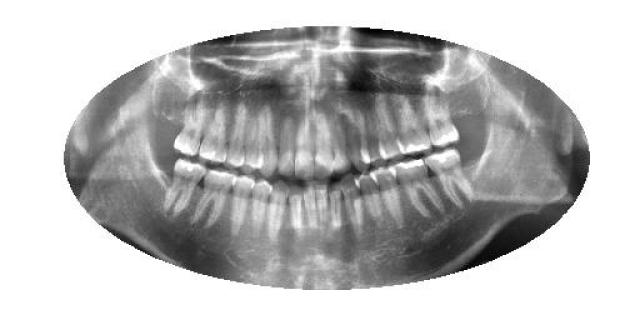Fillings: (389, 158, 445, 218), (424, 149, 475, 209), (164, 158, 206, 216), (395, 98, 431, 154), (198, 103, 228, 165), (424, 100, 460, 148), (173, 105, 205, 157)
